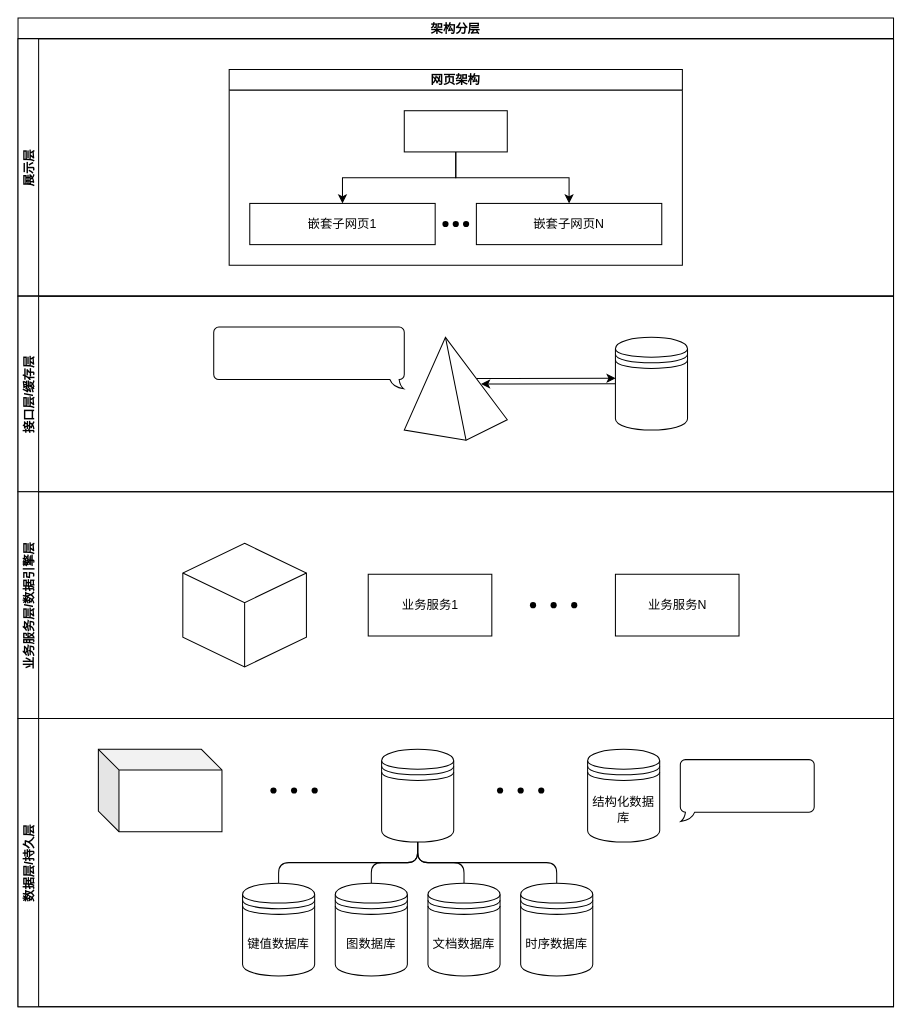
Image size: 912x1025. Some labels were removed from this diagram. The shapes that lost their labels are listed below. From the top down, each one's centre as x and y in pixels, then its label:
the point at 455,131: 主网页
the point at 308,357: 1. 请求的过滤与分发 2. 信息安全&鉴权
the point at 455,388: API Gateway
the point at 651,383: 缓存数据库
the point at 244,604: 核心数据引擎
the point at 159,790: 各类型文件
the point at 417,795: 非结构化数据库
the point at 746,790: 1. 业务数据 2. 服务数据
